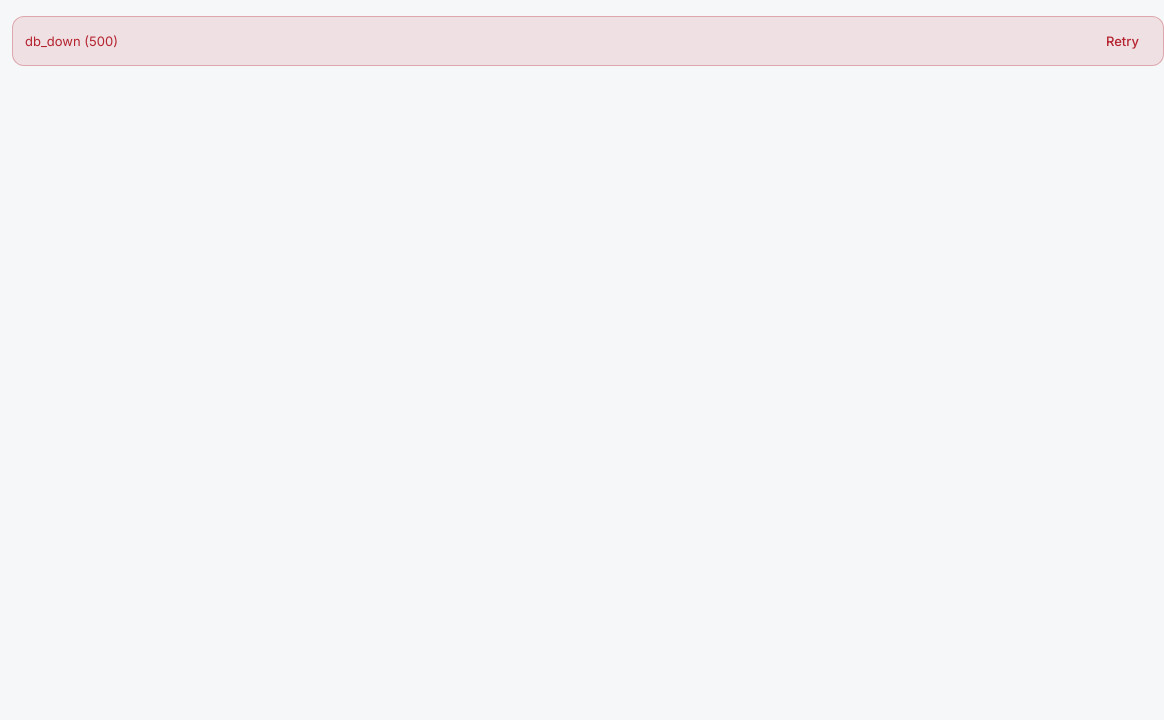
Test: MarketingBundleView › Retry re-reads after a failure
Check: the message "db_down (500) Retry" is shown, box [12,16,1163,66]
Click the button "Retry". click: [1122, 41]
box: [1094,25,1151,57]
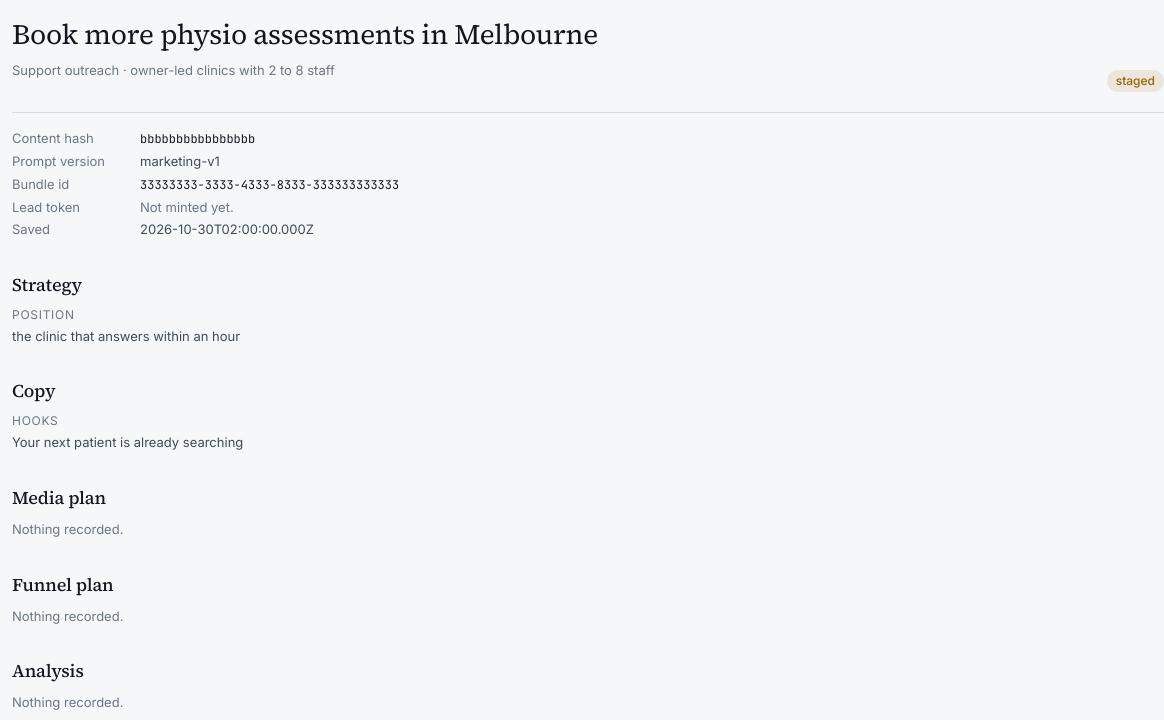
Check: the heading "Book more physio assessments in Melbourne" is shown, box [12,16,598,53]
